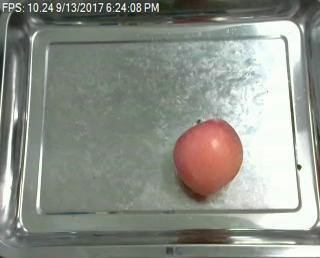apple: (173, 117, 243, 194)
